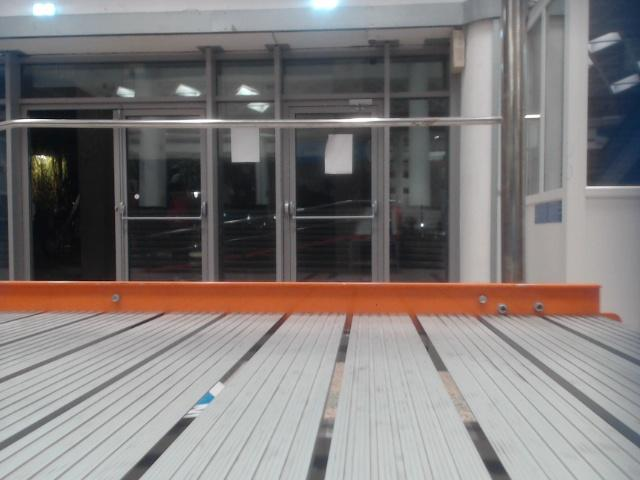rampDown: (0, 278, 639, 479)
ramps-railing: (0, 111, 548, 134), (501, 0, 529, 281)
